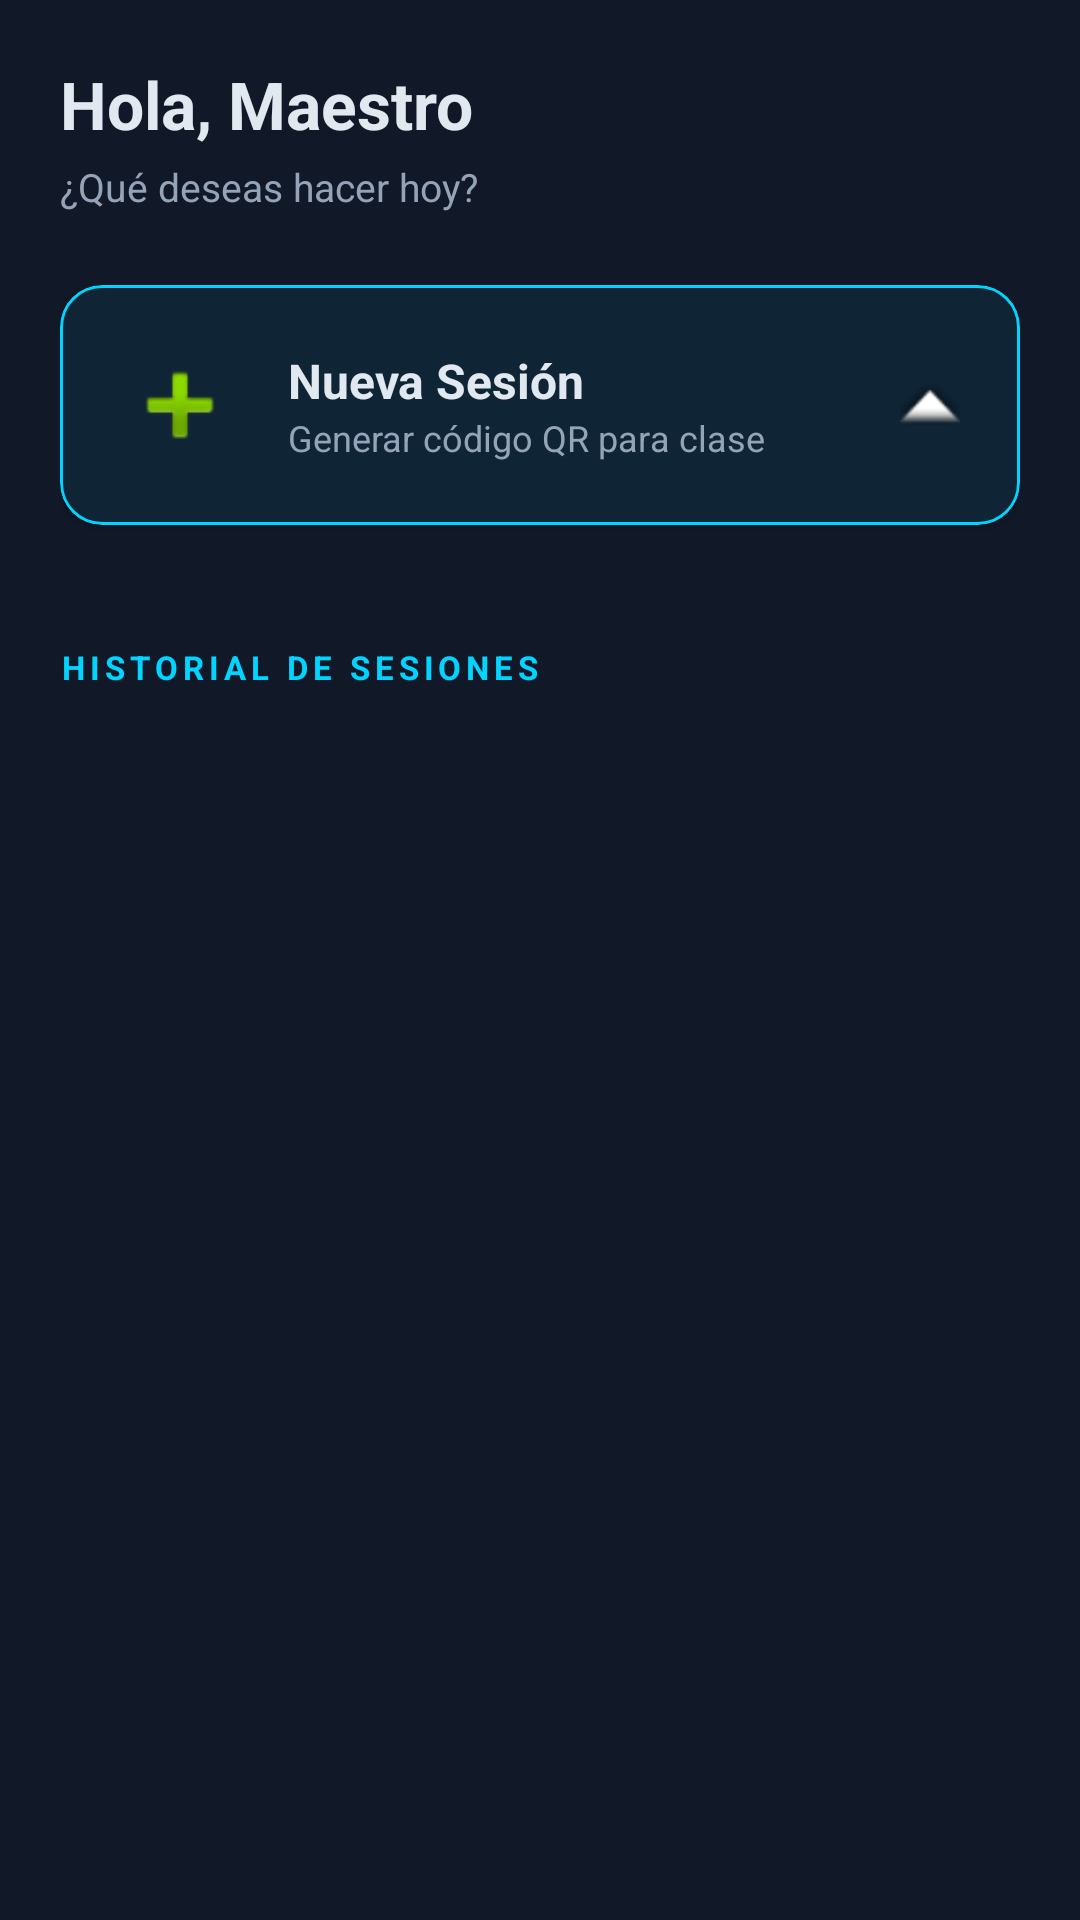

Point at icon controls on the screen. Image size 1080 x 1920, points as (x,y).
add: (180,405)
arrow up float: (930,406)
